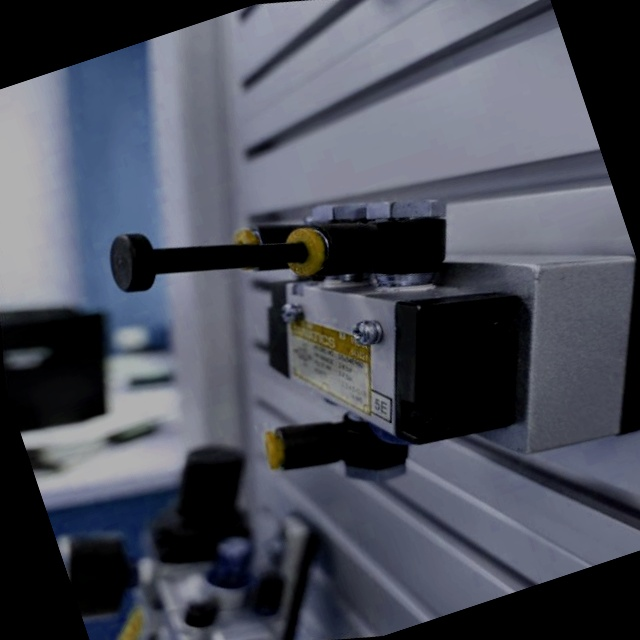5by2 DCV: (24, 48, 640, 635)
